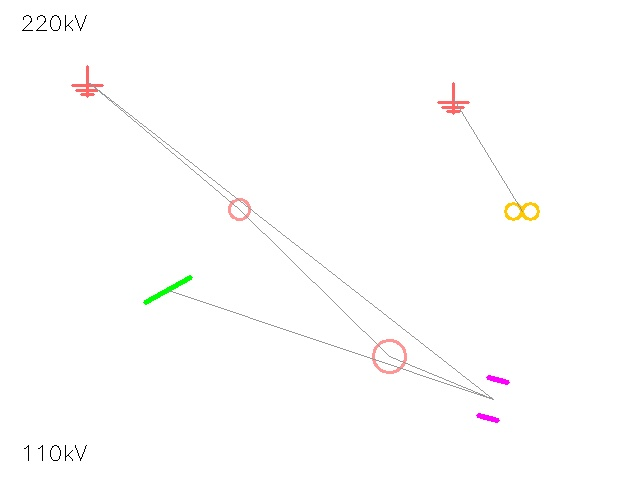busbar: (136, 258, 200, 322)
capacitor: (460, 366, 526, 432)
feeder_terminal: (219, 189, 259, 229)
ground: (72, 66, 102, 96), (438, 83, 468, 113)
transformer_2w: (500, 189, 544, 233)
voltage_transformer: (357, 324, 421, 388)
